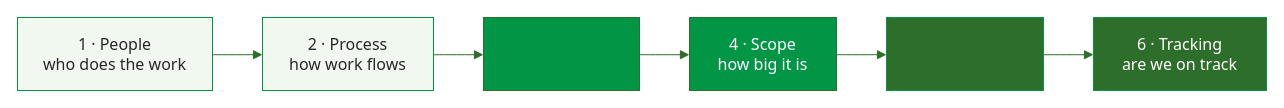
This 1284x108 diagram has some shape labels left out. The box of each missing label's shape, as (x1, y1, x2, y2) in pixels:
3 · Needs what to build: (482, 16, 640, 90)
5 · Planning in what order: (886, 16, 1044, 90)
